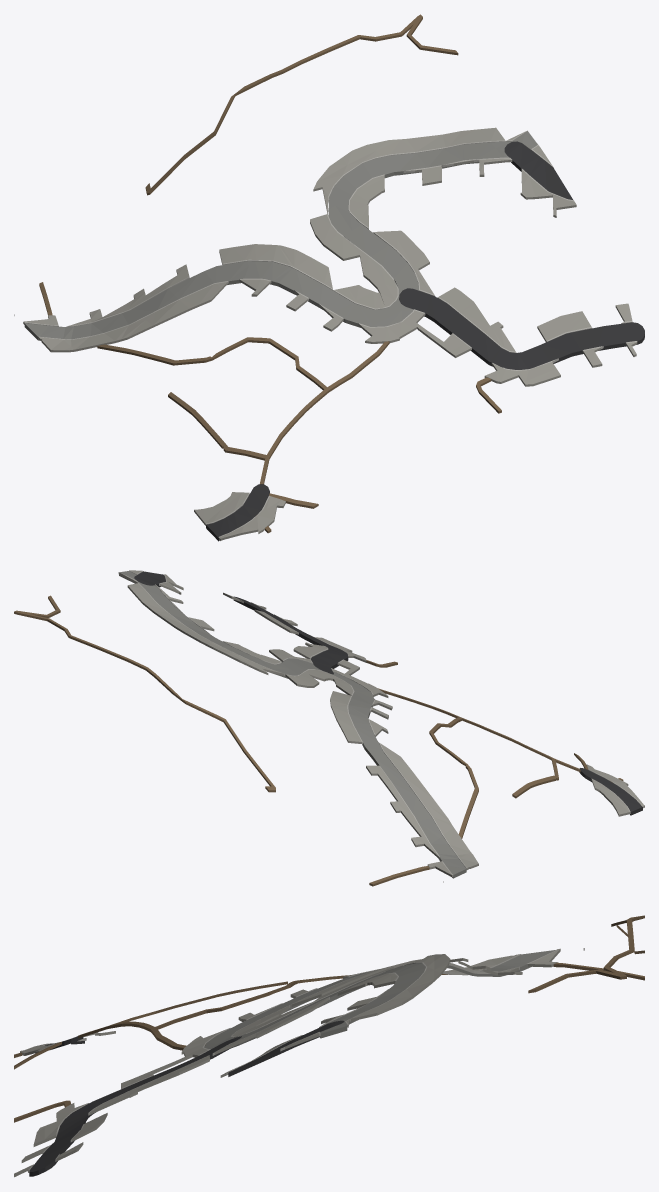
The picture shows the model from 3 angles, top to bottom: view 1: azimuth 30°, elevation 25°; view 2: azimuth 150°, elevation 25°; view 3: azimuth 270°, elevation 25°; orthographic projection. The views are drawn at different scales.
Size of the model in its own units: 147 by 86.92 by 146.
